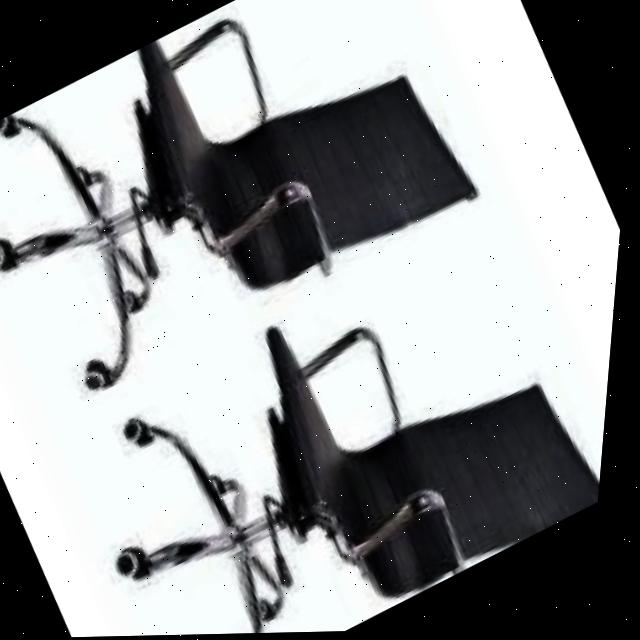sandalye: (56, 215, 626, 638), (0, 0, 506, 422)
